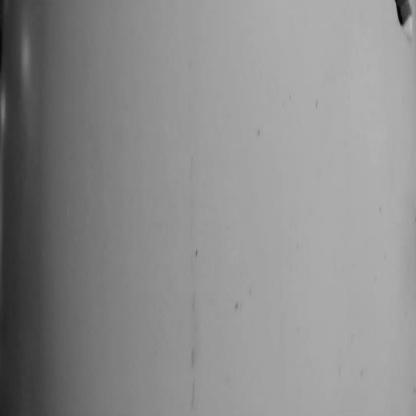kongdong: (393, 1, 410, 41)
